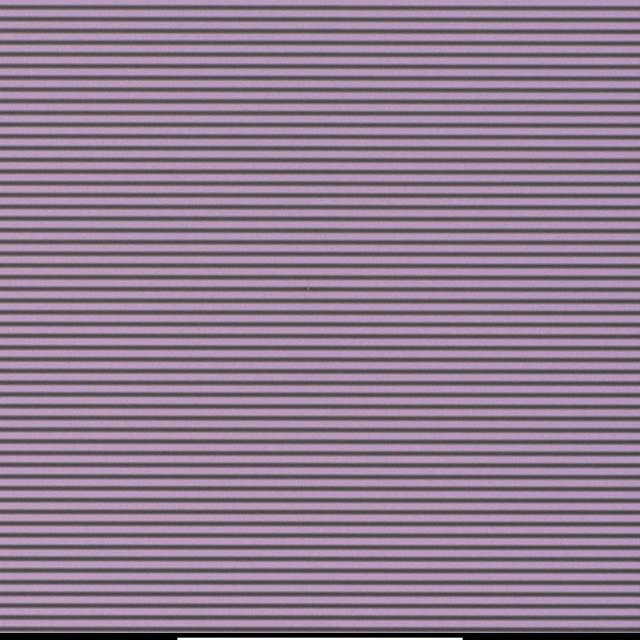03_intrusion: (306, 285, 312, 292)
